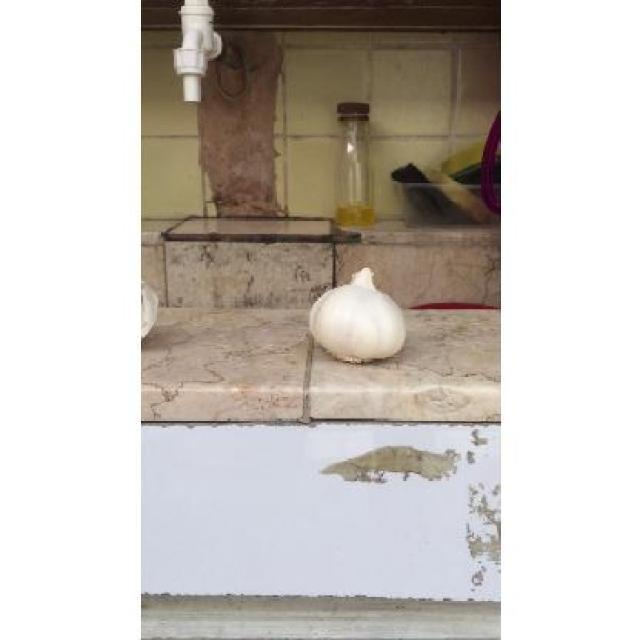garlic: (309, 268, 406, 362)
